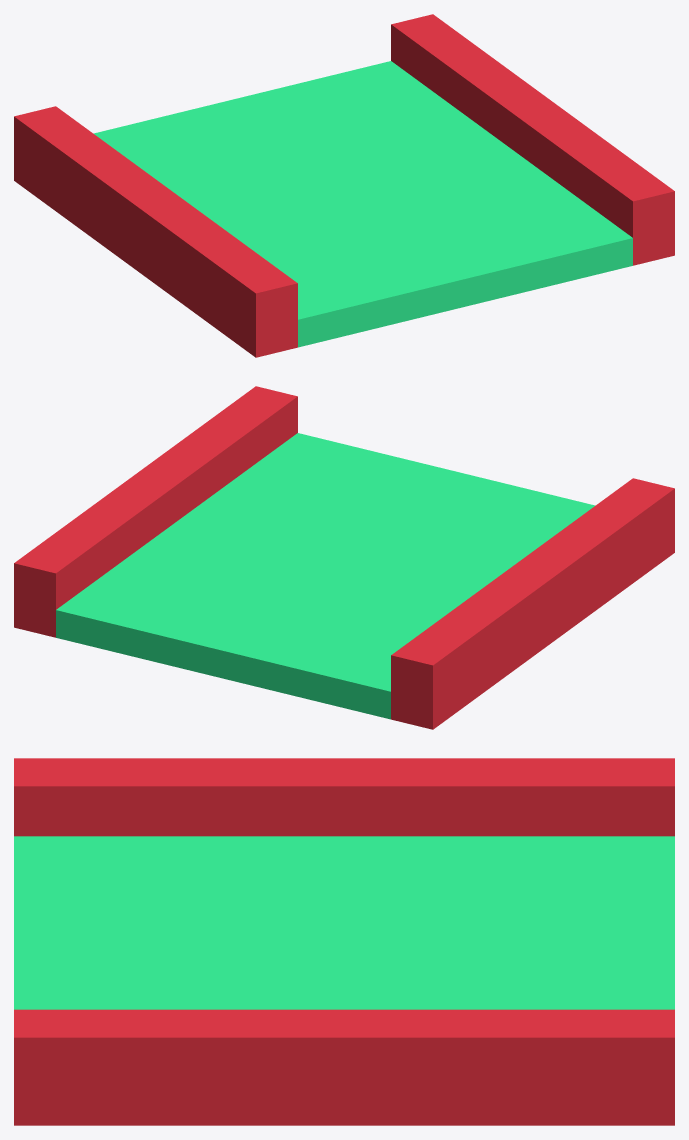
The model's file is straight.fbx.
The picture shows the model from 3 angles, top to bottom: view 1: azimuth 30°, elevation 25°; view 2: azimuth 150°, elevation 25°; view 3: azimuth 270°, elevation 25°; orthographic projection. The views are drawn at different scales.
Parts seen in each view (by area): view 1: straight; view 2: straight; view 3: straight.
Boxes of the visible parts, x1=… form: straight: x1=14, y1=14, x2=674, y2=357; straight: x1=14, y1=386, x2=674, y2=729; straight: x1=14, y1=758, x2=674, y2=1125.
Size of the model in its own units: 10 by 1.47 by 10.
